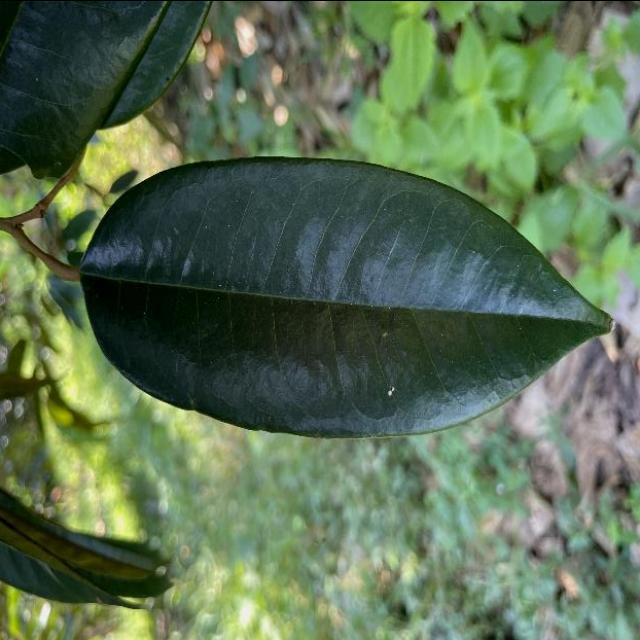No Disease: (64, 148, 624, 448)
